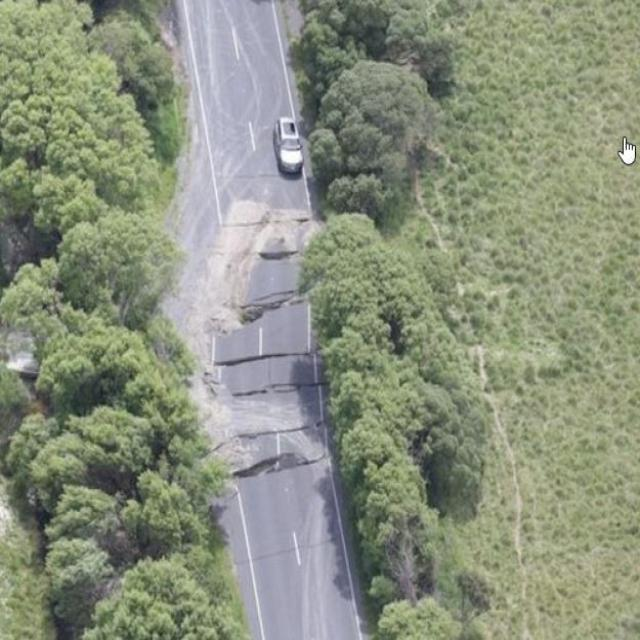traffic_incident: (195, 185, 335, 482)
